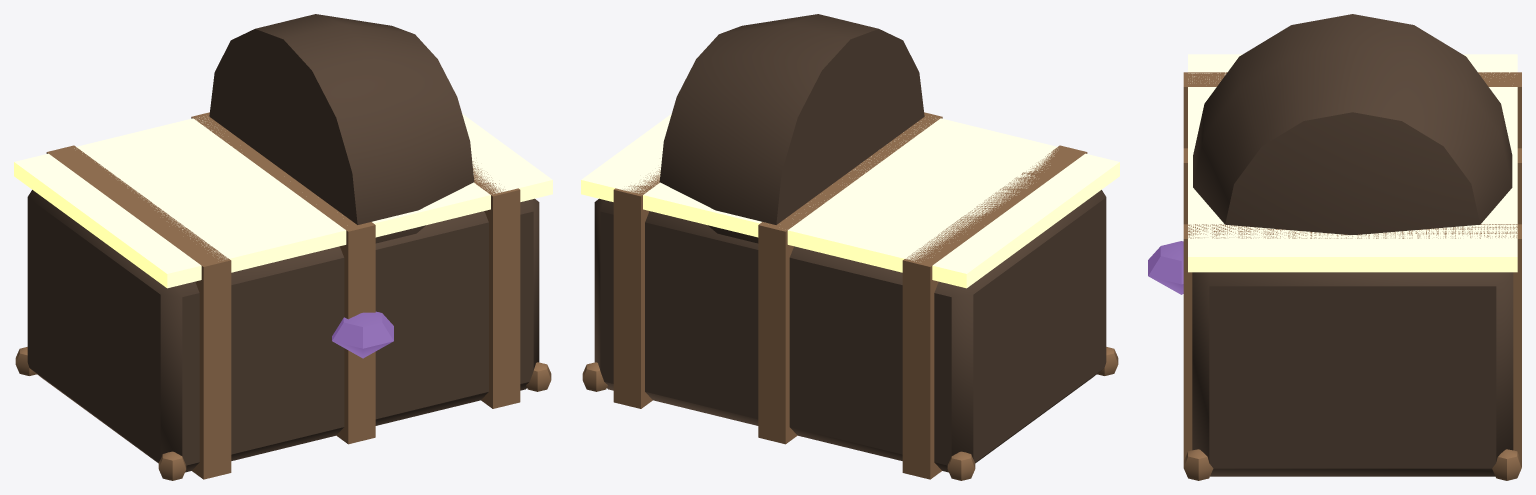
File: relic_cache_worn.glb
3 renders of one model, left to right at view 1: azimuth 30°, elevation 25°; view 2: azimuth 150°, elevation 25°; view 3: azimuth 270°, elevation 25°, orthographic. The views are drawn at different scales.
Parts seen in each view (by area): view 1: relic_cache_worn; view 2: relic_cache_worn; view 3: relic_cache_worn.
Part boxes in pixels (x1,y1,x2,y2): relic_cache_worn: [14, 14, 552, 480]; relic_cache_worn: [581, 14, 1119, 480]; relic_cache_worn: [1148, 14, 1521, 480].
Bounding box in the file's own units: 0.114 × 0.0955 × 0.0873.
